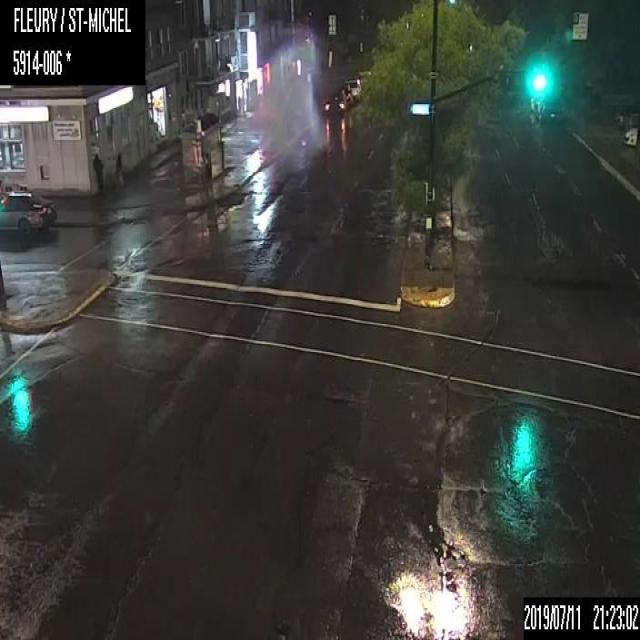pedestrian: (91, 151, 104, 193), (115, 151, 124, 184)
vehicle: (0, 187, 58, 245), (536, 98, 564, 123), (319, 92, 344, 118), (343, 77, 363, 101)
